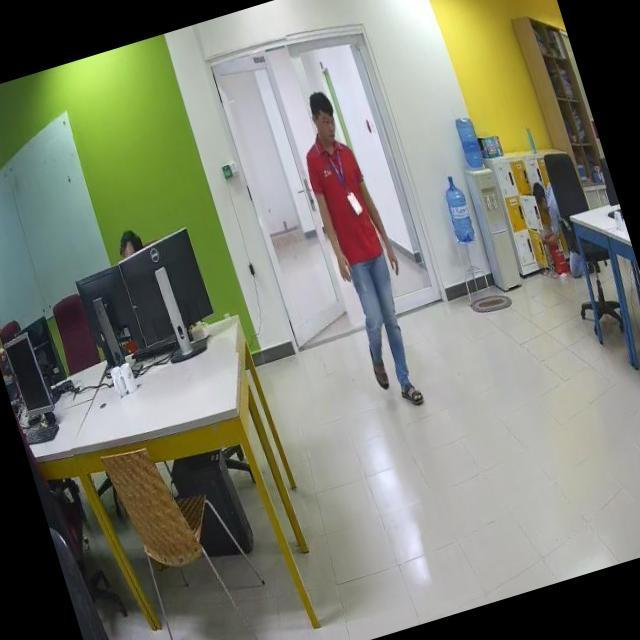person: (282, 83, 435, 422)
